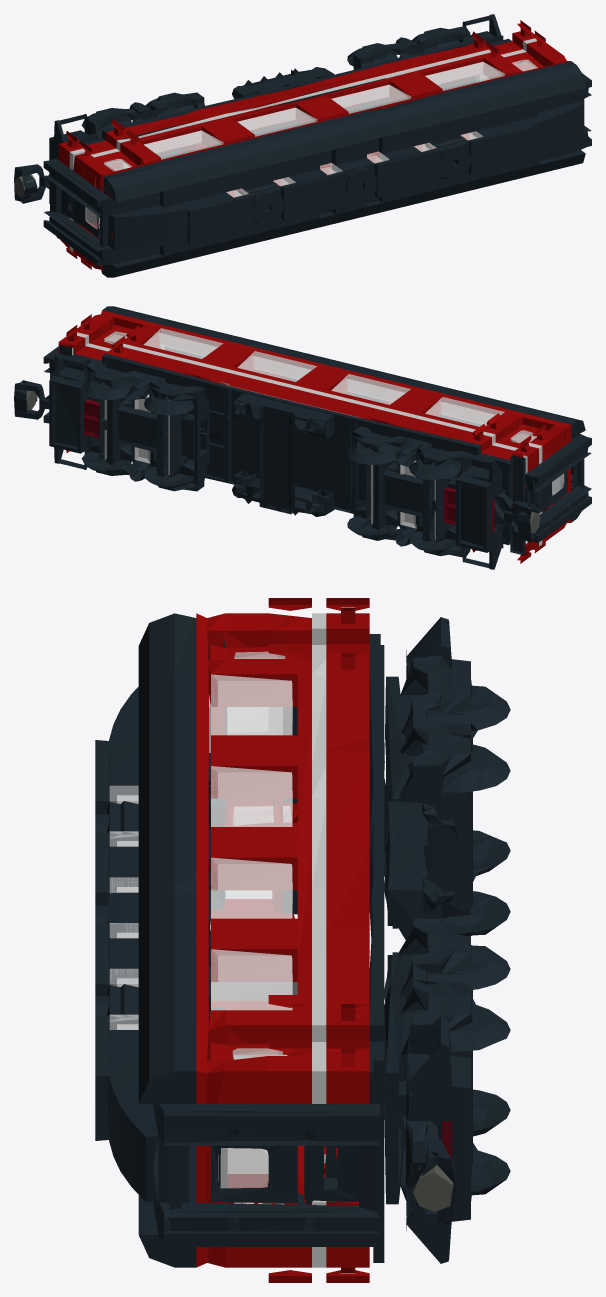
File: passenger-car.glb
The picture shows the model from 3 angles, top to bottom: view 1: azimuth 30°, elevation 25°; view 2: azimuth 150°, elevation 25°; view 3: azimuth 270°, elevation 25°; orthographic projection. The views are drawn at different scales.
Size of the model in its own units: 264 by 59.2 by 92.02.
